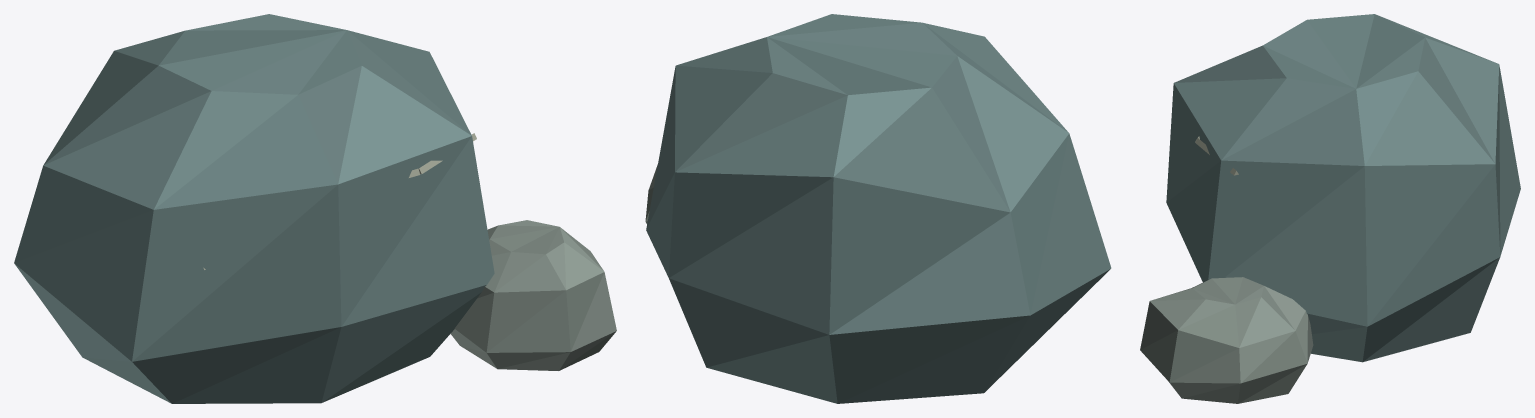
Rendered from stream_rock_b.glb.
The picture shows the model from 3 angles, left to right: view 1: azimuth 30°, elevation 25°; view 2: azimuth 150°, elevation 25°; view 3: azimuth 270°, elevation 25°; orthographic projection. The views are drawn at different scales.
Parts seen in each view (by area): view 1: geometry; view 2: geometry; view 3: geometry.
Boxes of the visible parts, bbox=[...] form: geometry: bbox=[14, 14, 616, 403]; geometry: bbox=[645, 14, 1111, 403]; geometry: bbox=[1140, 14, 1520, 403].
Size of the model in its own units: 0.8761 by 0.49 by 0.6877.
